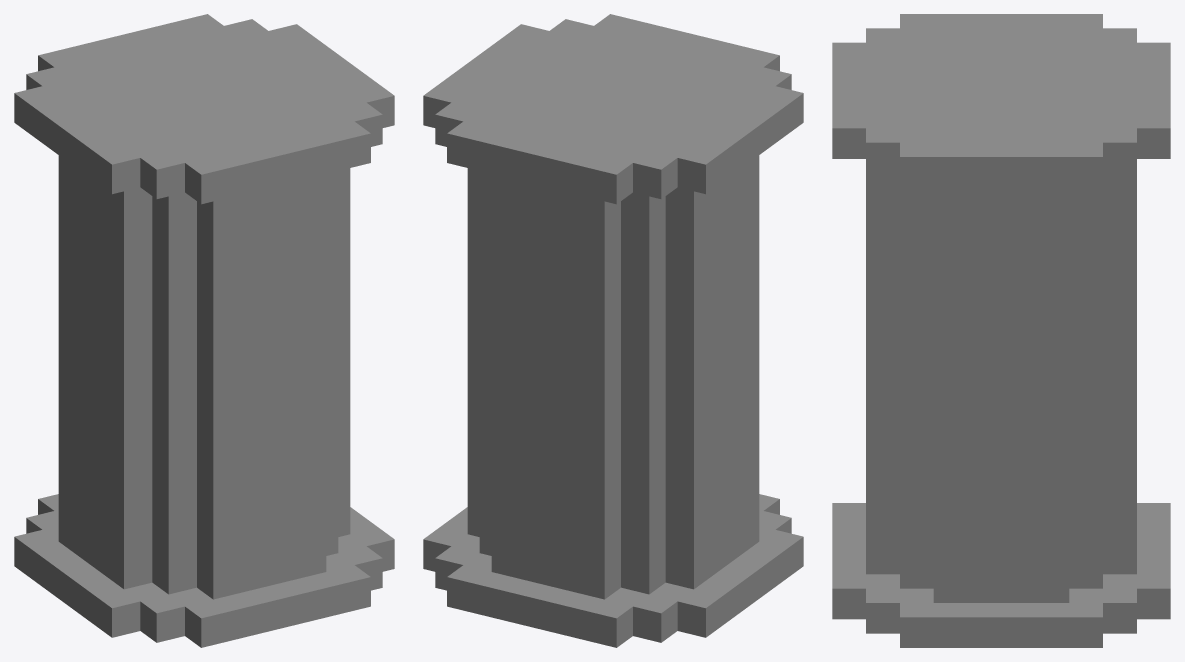
Rendered from pipe straight.obj.
The picture shows the model from 3 angles, left to right: view 1: azimuth 30°, elevation 25°; view 2: azimuth 150°, elevation 25°; view 3: azimuth 270°, elevation 25°; orthographic projection. The views are drawn at different scales.
Visible parts, largest first — view 1: pipe straight; view 2: pipe straight; view 3: pipe straight.
Boxes of the visible parts, x1,y1,x2,y2 form: pipe straight: (14, 14, 394, 647); pipe straight: (423, 14, 803, 647); pipe straight: (832, 14, 1170, 647).
Bounding box in the file's own units: 10 × 16 × 10.
1 material, 1 textured.
